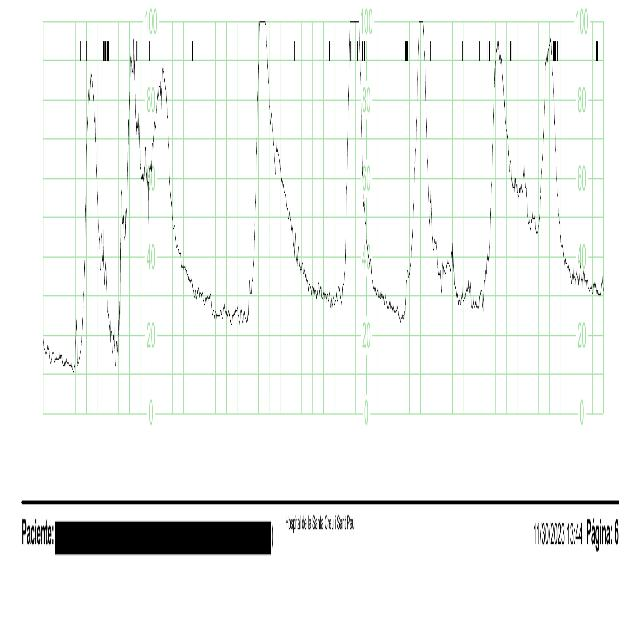contraction: (77, 58, 108, 363), (406, 18, 437, 322), (118, 50, 146, 355), (247, 20, 275, 318), (342, 23, 371, 295), (483, 15, 508, 307), (537, 23, 565, 230), (151, 73, 172, 195)
